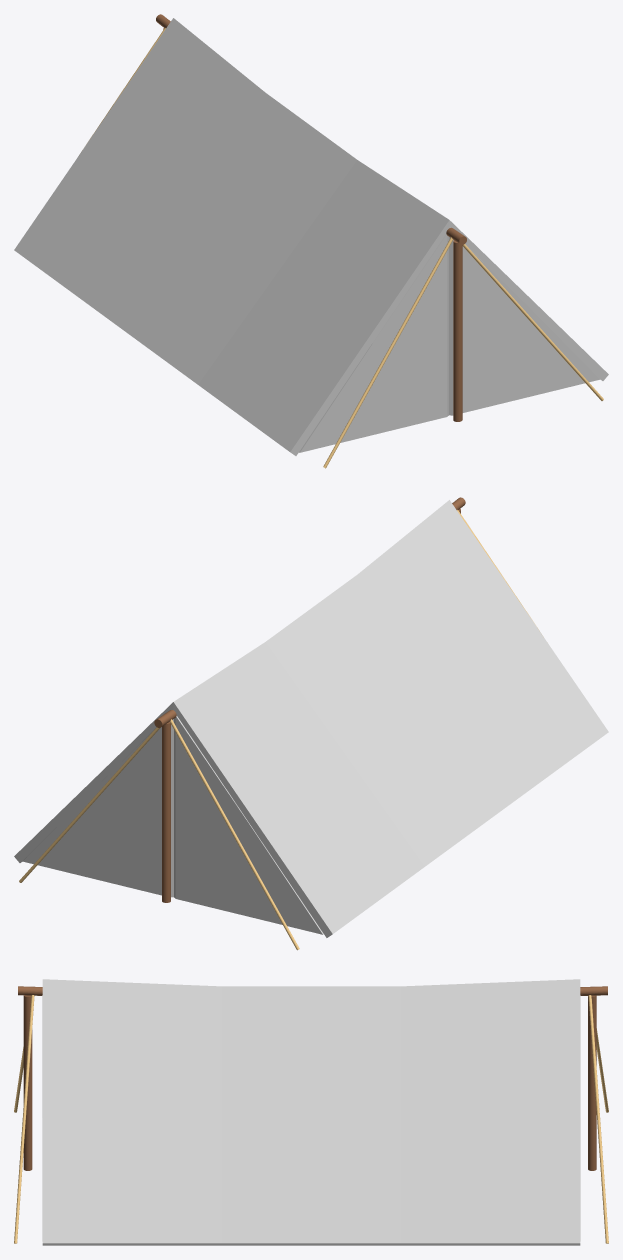
File: tent.fbx
3 renders of one model, top to bottom at view 1: azimuth 30°, elevation 25°; view 2: azimuth 150°, elevation 25°; view 3: azimuth 270°, elevation 25°, orthographic. The views are drawn at different scales.
Parts seen in each view (by area): view 1: tent; view 2: tent; view 3: tent.
Part boxes in pixels (box(x1,y1,x2,y2)): tent: box(14, 14, 608, 468); tent: box(14, 497, 608, 950); tent: box(14, 979, 608, 1245).
Size of the model in its own units: 400 by 245 by 664.
